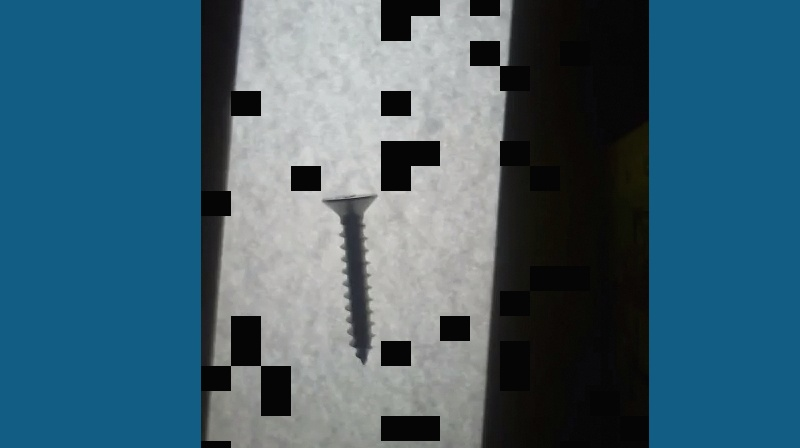S001: (323, 190, 385, 368)
